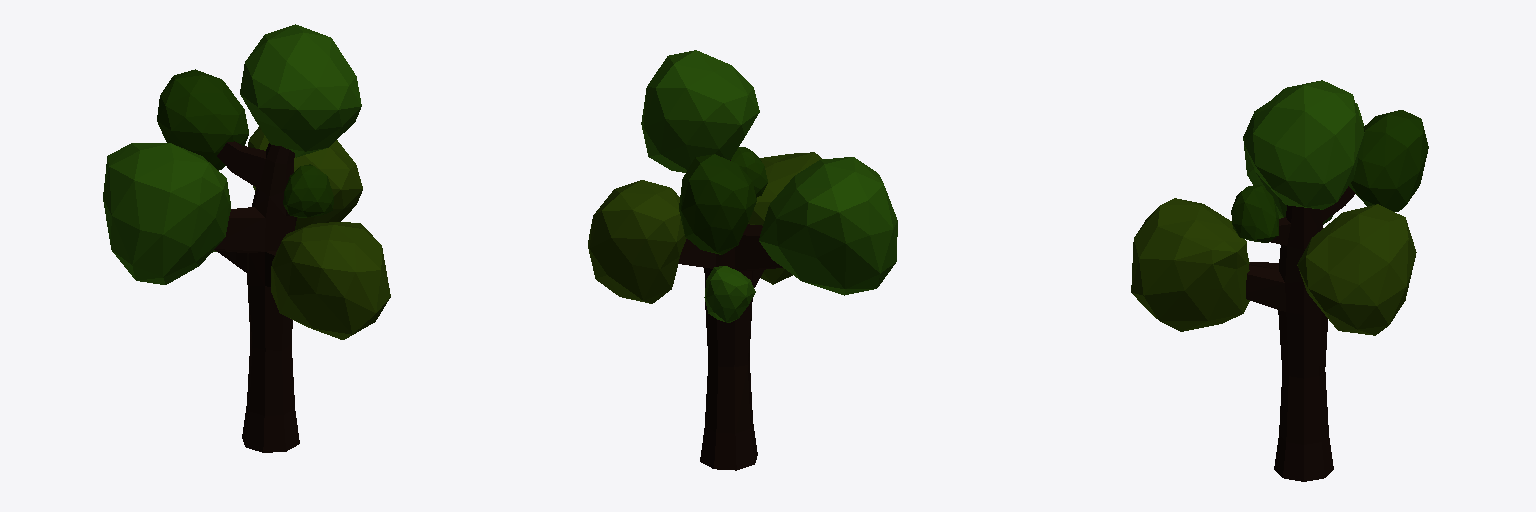
The model's file is tree-full.obj.
3 views of the same model, side by side, from view 1: azimuth 30°, elevation 25°; view 2: azimuth 150°, elevation 25°; view 3: azimuth 270°, elevation 25° (orthographic).
Visible parts, largest first — view 1: Cylinder.006; view 2: Cylinder.006; view 3: Cylinder.006.
Boxes of the visible parts, box(x1,y1,x2,y2) form: Cylinder.006: box(103, 24, 390, 452); Cylinder.006: box(588, 50, 897, 470); Cylinder.006: box(1131, 80, 1428, 481).
Bounding box in the file's own units: 2.18 × 3.08 × 2.08.